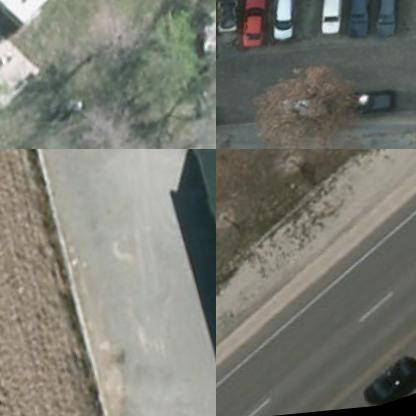car: (335, 82, 398, 136), (272, 90, 335, 140), (354, 362, 415, 412), (233, 0, 276, 57), (261, 0, 303, 51), (363, 0, 404, 51), (338, 0, 378, 48), (309, 0, 348, 49), (216, 0, 240, 44)
